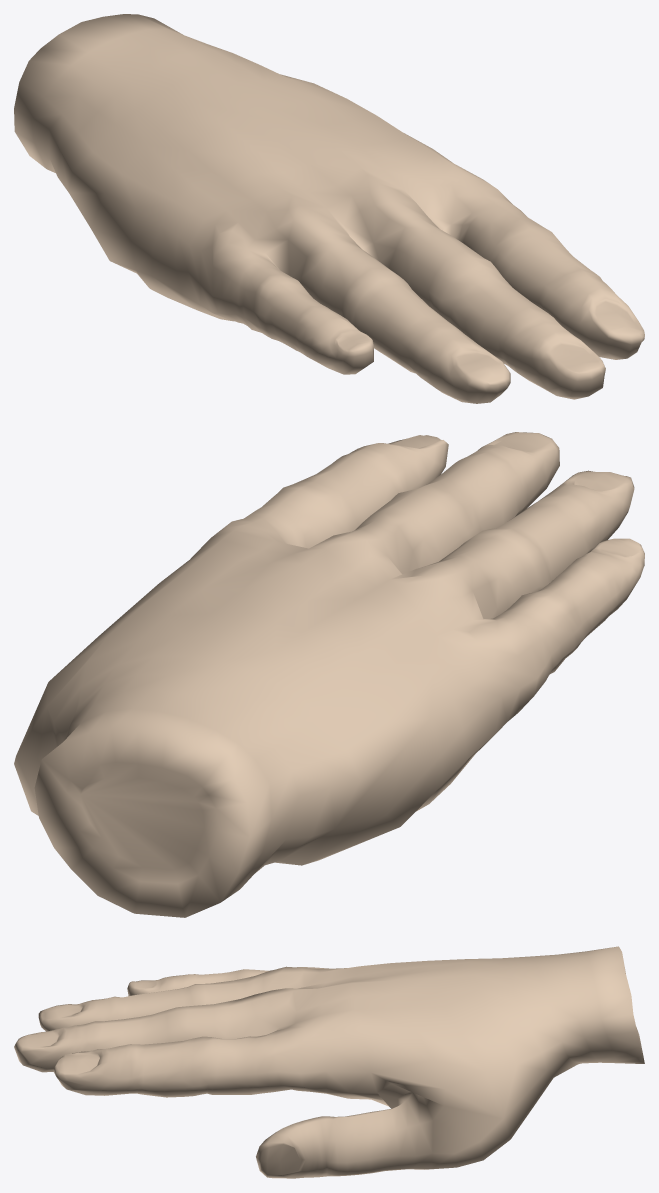
File: HandR.fbx
The picture shows the model from 3 angles, top to bottom: view 1: azimuth 30°, elevation 25°; view 2: azimuth 150°, elevation 25°; view 3: azimuth 270°, elevation 25°; orthographic projection. The views are drawn at different scales.
Visible parts, largest first — view 1: HandR; view 2: HandR; view 3: HandR.
Boxes of the visible parts, <box> form: HandR: <box>14,14,644,403</box>; HandR: <box>14,432,644,917</box>; HandR: <box>14,946,644,1178</box>.
Bounding box in the file's own units: 92.49 × 58.57 × 214.
